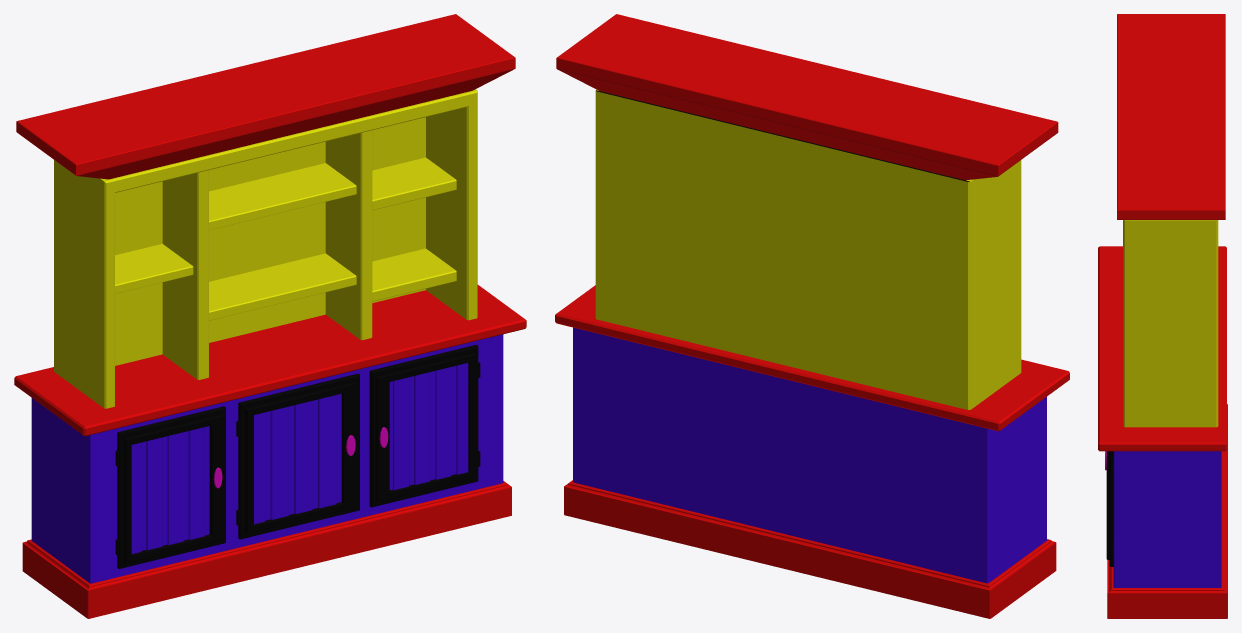
The model's file is SM_BookCase.fbx.
3 renders of one model, left to right at view 1: azimuth 30°, elevation 25°; view 2: azimuth 150°, elevation 25°; view 3: azimuth 270°, elevation 25°, orthographic. The views are drawn at different scales.
Visible parts, largest first — view 1: pCube23; view 2: pCube23; view 3: pCube23.
Boxes of the visible parts, left/top/right/bottom form: pCube23: left=14, top=14, right=526, bottom=618; pCube23: left=555, top=14, right=1069, bottom=618; pCube23: left=1098, top=14, right=1227, bottom=618.
Size of the model in its own units: 272 by 265 by 75.35.
